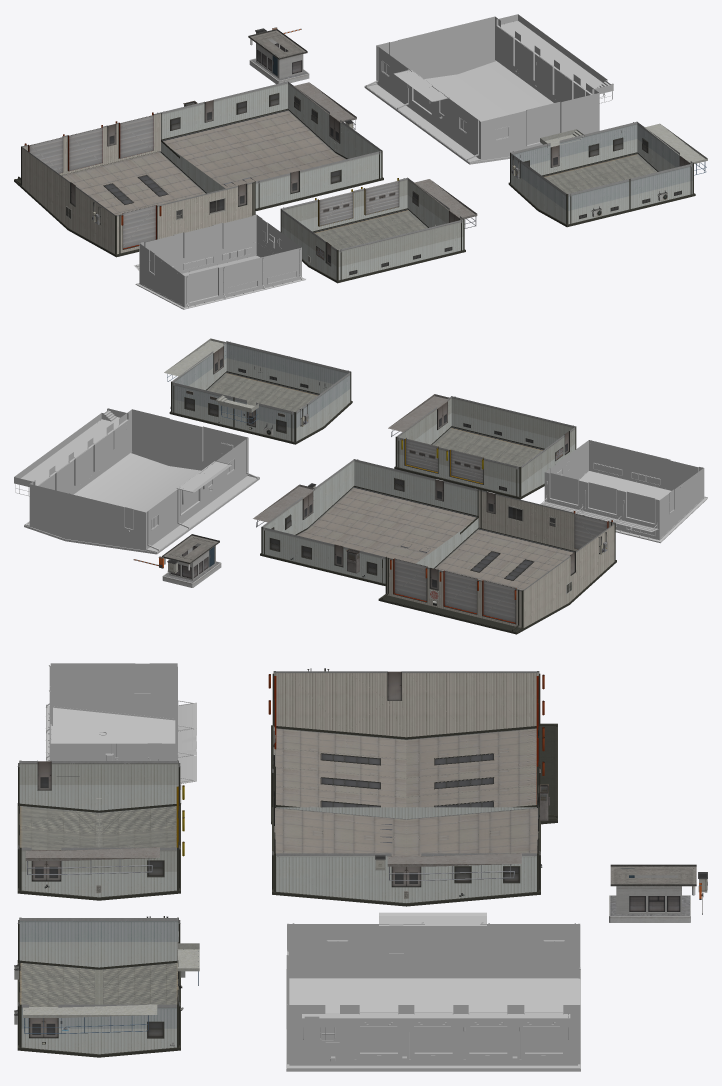
File: industrial-buildings-pack.fbx
The picture shows the model from 3 angles, top to bottom: view 1: azimuth 30°, elevation 25°; view 2: azimuth 150°, elevation 25°; view 3: azimuth 270°, elevation 25°; orthographic projection. The views are drawn at different scales.
Visible parts, largest first — view 1: suburbanFireDept_suburbanFireDept_0, warehouse_warehouse_0, temporaryOffice_temporaryOffice_0, smallWarehouse_smallWarehouse_0, oldWarehouse001_oldWarehouse_0, secuirityBooth_secuirityBooth_0; view 2: suburbanFireDept_suburbanFireDept_0, warehouse_warehouse_0, temporaryOffice_temporaryOffice_0, smallWarehouse_smallWarehouse_0, oldWarehouse001_oldWarehouse_0, secuirityBooth_secuirityBooth_0, suburbanFireDept_suburbanFireDeptDetails_0; view 3: suburbanFireDept_suburbanFireDept_0, warehouse_warehouse_0, temporaryOffice_temporaryOffice_0, smallWarehouse_smallWarehouse_0, oldWarehouse001_oldWarehouse_0, secuirityBooth_secuirityBooth_0.
Boxes of the visible parts, left/top/right/bottom form: suburbanFireDept_suburbanFireDept_0: left=14, top=81, right=383, bottom=257; warehouse_warehouse_0: left=364, top=14, right=613, bottom=164; temporaryOffice_temporaryOffice_0: left=508, top=121, right=707, bottom=227; smallWarehouse_smallWarehouse_0: left=280, top=177, right=477, bottom=283; oldWarehouse001_oldWarehouse_0: left=134, top=214, right=305, bottom=309; secuirityBooth_secuirityBooth_0: left=248, top=27, right=309, bottom=84; suburbanFireDept_suburbanFireDept_0: left=253, top=459, right=616, bottom=634; warehouse_warehouse_0: left=14, top=408, right=259, bottom=554; temporaryOffice_temporaryOffice_0: left=164, top=338, right=352, bottom=444; smallWarehouse_smallWarehouse_0: left=388, top=394, right=576, bottom=499; oldWarehouse001_oldWarehouse_0: left=540, top=440, right=707, bottom=543; secuirityBooth_secuirityBooth_0: left=133, top=534, right=221, bottom=587; suburbanFireDept_suburbanFireDeptDetails_0: left=290, top=483, right=607, bottom=605; suburbanFireDept_suburbanFireDept_0: left=268, top=671, right=557, bottom=906; warehouse_warehouse_0: left=286, top=912, right=580, bottom=1071; temporaryOffice_temporaryOffice_0: left=14, top=916, right=199, bottom=1057; smallWarehouse_smallWarehouse_0: left=17, top=760, right=184, bottom=900; oldWarehouse001_oldWarehouse_0: left=46, top=663, right=196, bottom=803; secuirityBooth_secuirityBooth_0: left=609, top=864, right=707, bottom=922.
Bounding box in the file's own units: 636302 × 57658 × 523068.
